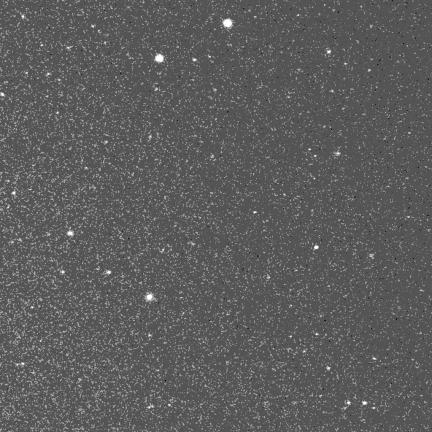blob: (155, 54, 165, 63), (224, 19, 232, 27), (67, 230, 74, 237), (147, 294, 152, 300), (106, 270, 112, 275), (0, 92, 5, 97), (60, 270, 65, 275), (314, 245, 319, 250), (362, 401, 367, 405), (12, 191, 16, 195), (327, 366, 330, 370), (193, 58, 197, 61), (327, 50, 331, 53), (347, 401, 350, 404)
